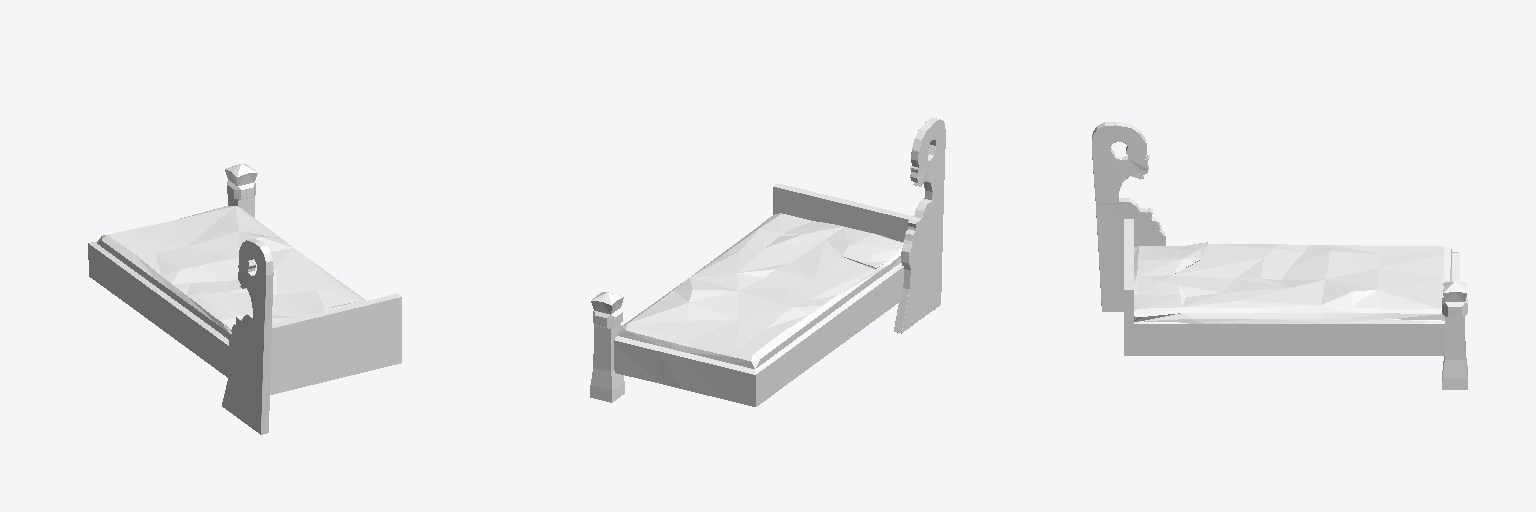
The model's file is NordBed_IS.obj.
3 renders of one model, left to right at view 1: azimuth 30°, elevation 25°; view 2: azimuth 150°, elevation 25°; view 3: azimuth 270°, elevation 25°, orthographic.
Visible parts, largest first — view 1: Bed_Base, Bed_Headboard, BedPost_LG, BedPost; view 2: Bed_Base, BedPost_LG, Bed_Headboard, BedPost; view 3: Bed_Base, BedPost_LG, BedPost, Bed_Headboard.
Part boxes in pixels (left/top/right/bottom): Bed_Base: left=88, top=206, right=365, bottom=377; Bed_Headboard: left=270, top=293, right=401, bottom=394; BedPost_LG: left=222, top=238, right=273, bottom=434; BedPost: left=225, top=163, right=257, bottom=217; Bed_Base: left=614, top=213, right=903, bottom=406; BedPost_LG: left=894, top=118, right=945, bottom=333; Bed_Headboard: left=773, top=183, right=913, bottom=241; BedPost: left=590, top=292, right=624, bottom=402; Bed_Base: left=1134, top=242, right=1459, bottom=355; BedPost_LG: left=1092, top=122, right=1165, bottom=311; BedPost: left=1442, top=282, right=1467, bottom=389; Bed_Headboard: left=1124, top=219, right=1133, bottom=355.
Size of the model in its own units: 104 by 110 by 201.